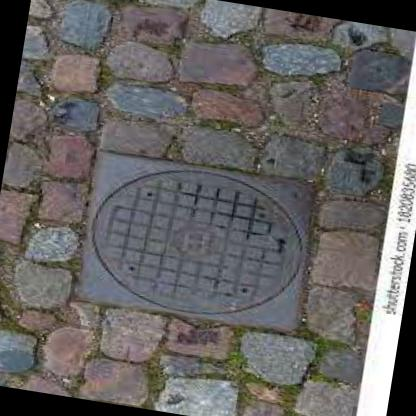manholes: (42, 122, 372, 366)
